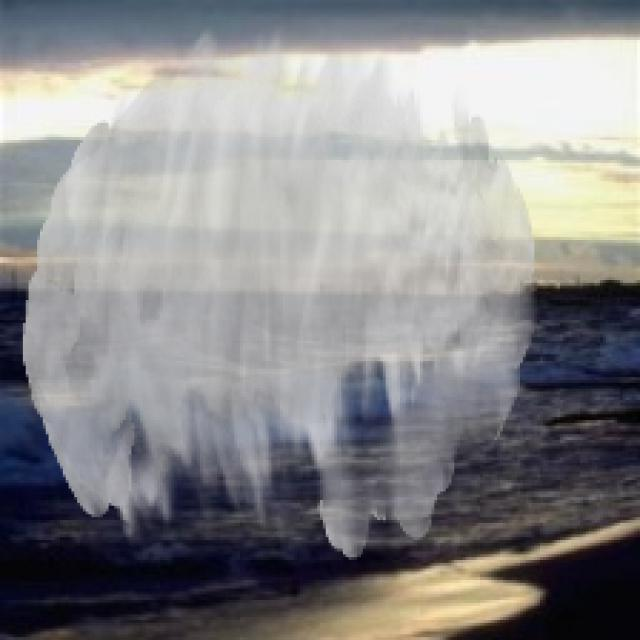smoke: (23, 23, 537, 560)
